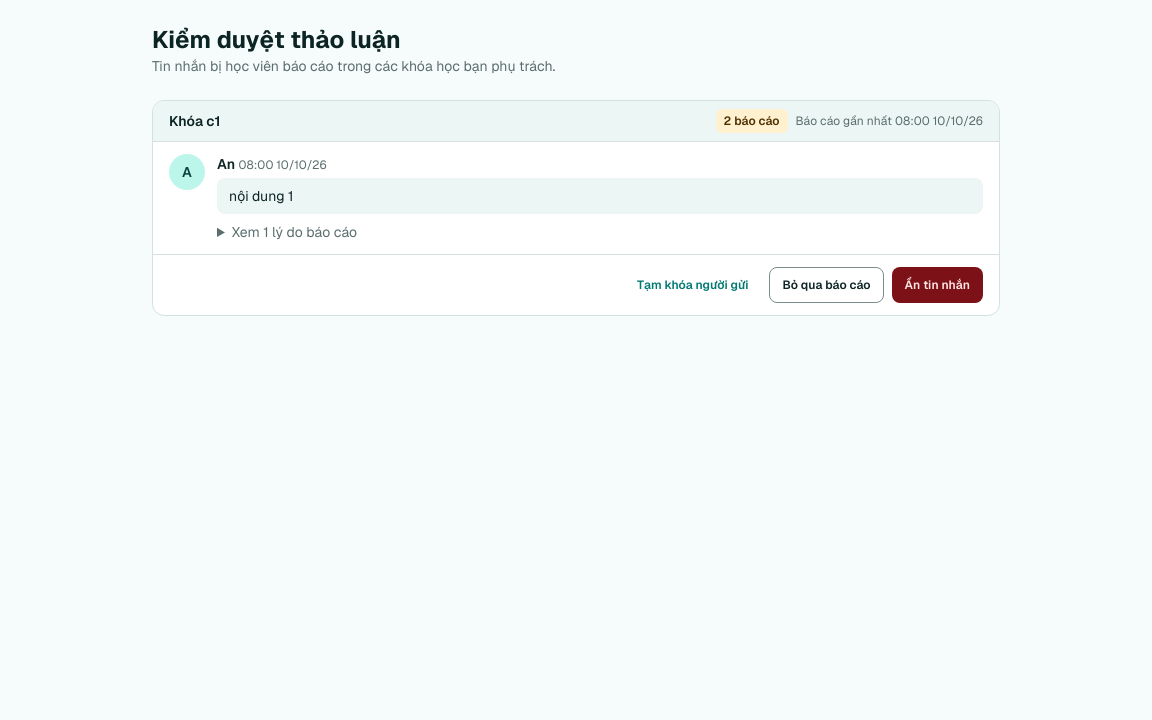
it: ModerationQueue › dismisses unfounded reports and drops the card
The width and height of the screenshot is (1152, 720).
Click the button "Bỏ qua báo cáo": (826, 285) x1=769 y1=267 x2=884 y2=303
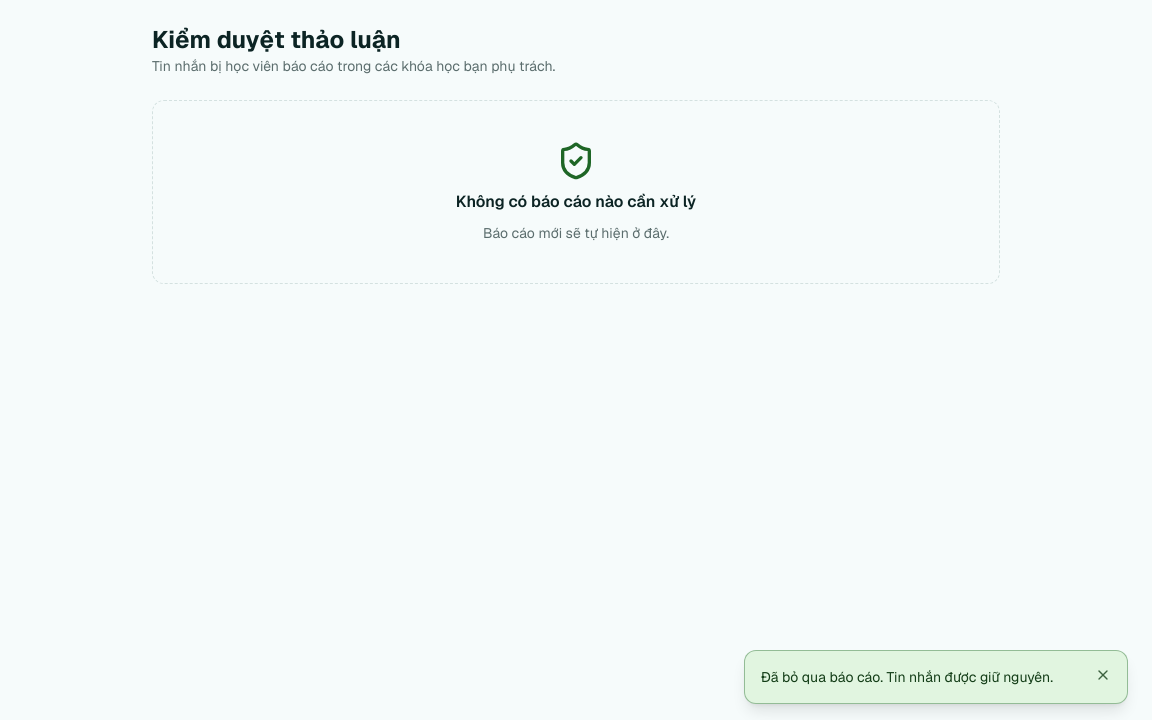
Now the element with test id "moderation-empty" is shown, box x1=152 y1=100 x2=1000 y2=284
